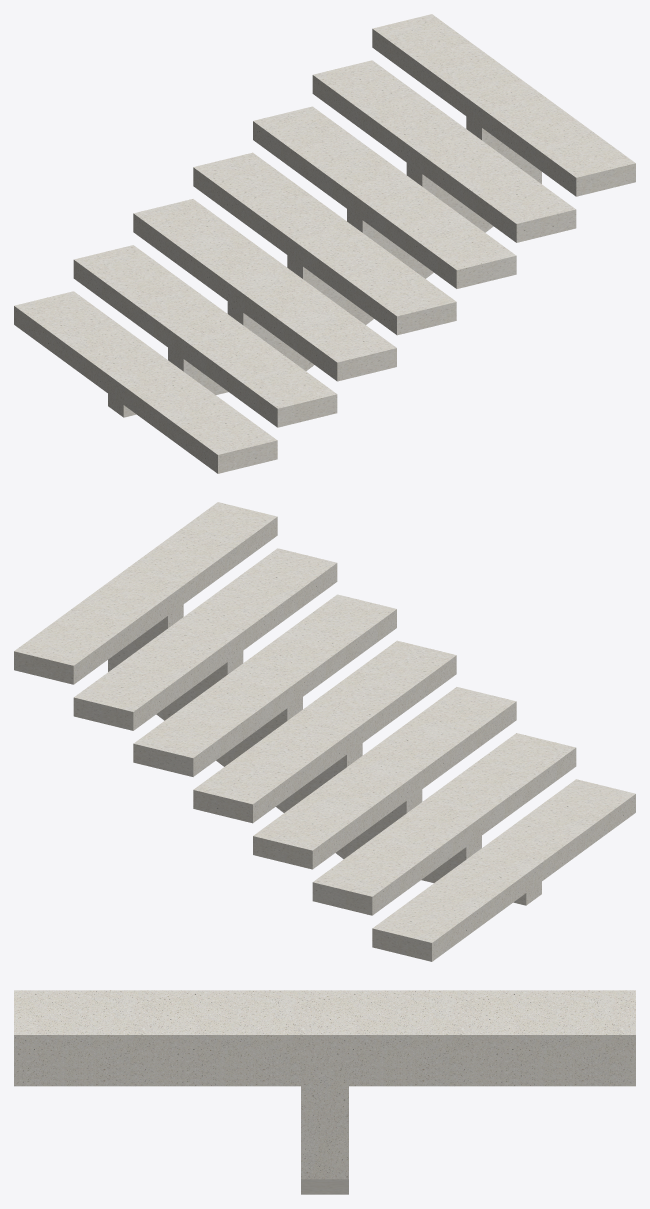
The model's file is Soupnewstairs006.glb.
3 renders of one model, top to bottom at view 1: azimuth 30°, elevation 25°; view 2: azimuth 150°, elevation 25°; view 3: azimuth 270°, elevation 25°, orthographic. The views are drawn at different scales.
Parts seen in each view (by area): view 1: Soupnewstairs006_high_1; view 2: Soupnewstairs006_high_1; view 3: Soupnewstairs006_high_1.
Part boxes in pixels (<box>): Soupnewstairs006_high_1: <box>14,14,635,473</box>; Soupnewstairs006_high_1: <box>14,502,635,961</box>; Soupnewstairs006_high_1: <box>14,990,635,1194</box>.
Bounding box in the file's own units: 2.6 × 1.32 × 2.2.
Materials: 1 (1 with a texture image).
